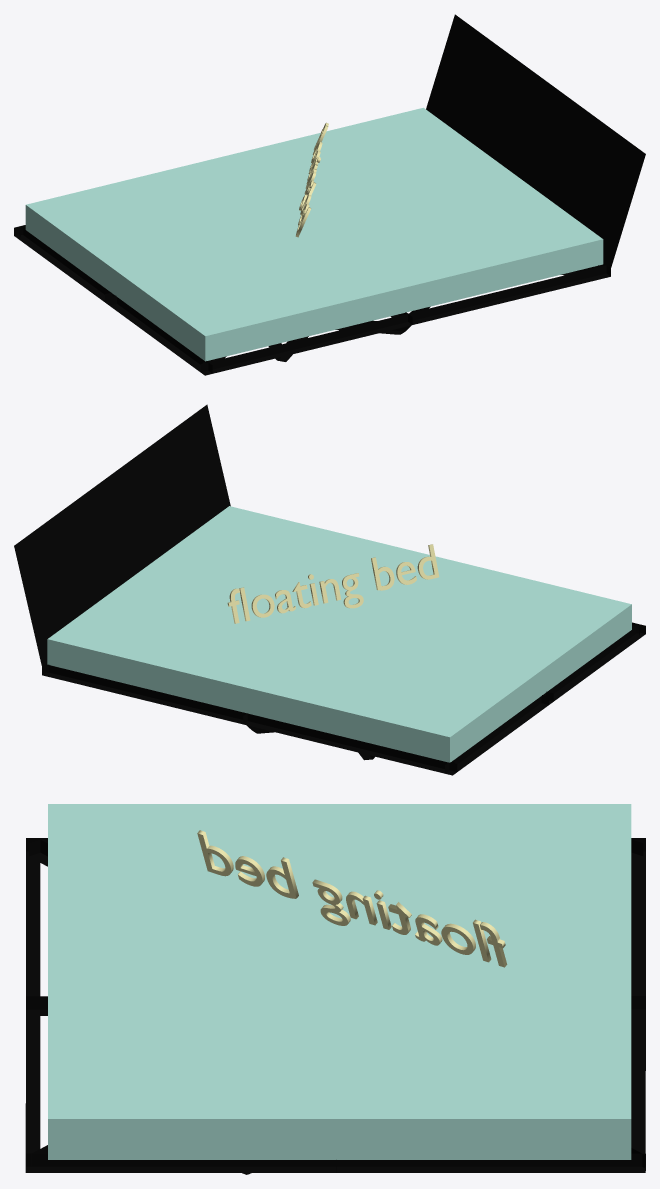
Rendered from chair.glb.
The picture shows the model from 3 angles, top to bottom: view 1: azimuth 30°, elevation 25°; view 2: azimuth 150°, elevation 25°; view 3: azimuth 270°, elevation 25°; orthographic projection. The views are drawn at different scales.
Parts seen in each view (by area): view 1: Plane, Plane.008, Text; view 2: Plane, Plane.008, Text; view 3: Plane, Plane.008, Text.
Part boxes in pixels (x1=…): Plane: x1=25, y1=107, x2=603, y2=361; Plane.008: x1=14, y1=14, x2=645, y2=375; Text: x1=295, y1=122, x2=328, y2=237; Plane: x1=47, y1=506, x2=631, y2=762; Plane.008: x1=14, y1=404, x2=645, y2=775; Text: x1=227, y1=544, x2=439, y2=623; Plane: x1=48, y1=804, x2=631, y2=1159; Plane.008: x1=25, y1=838, x2=645, y2=1174; Text: x1=197, y1=830, x2=507, y2=967.
Bounding box in the file's own units: 2.24 × 0.9184 × 1.72.
